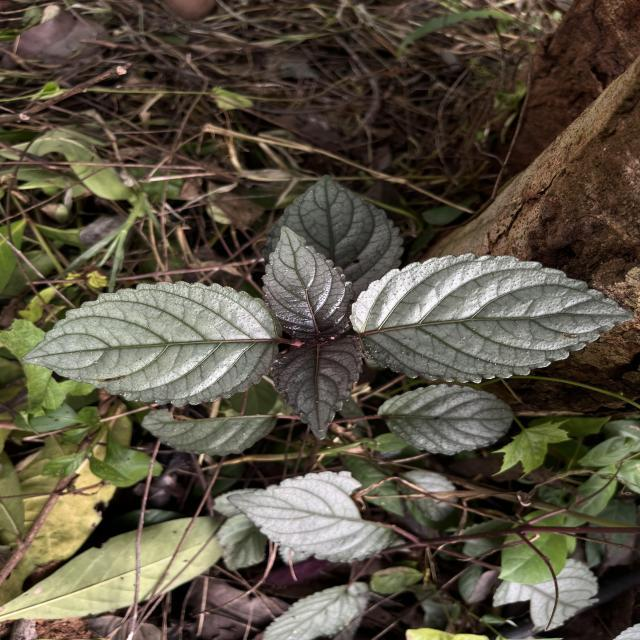Hemigraphis colorata: (346, 247, 640, 386), (17, 276, 289, 409), (259, 220, 356, 344), (373, 381, 518, 458), (266, 338, 366, 444)
